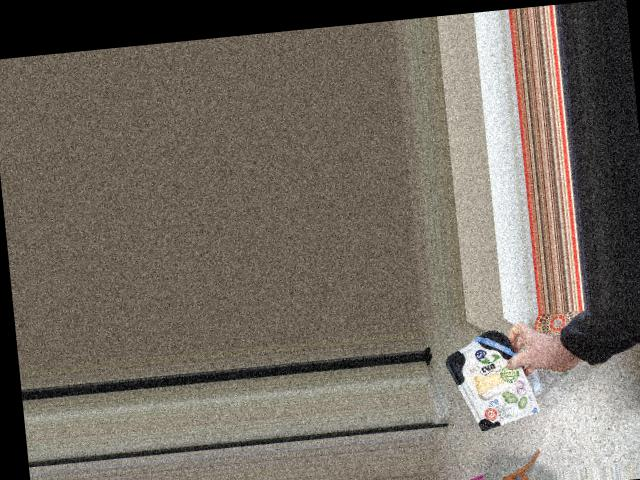cheese: (449, 324, 526, 433)
